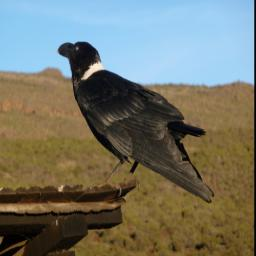Crow: (55, 36, 214, 204)
